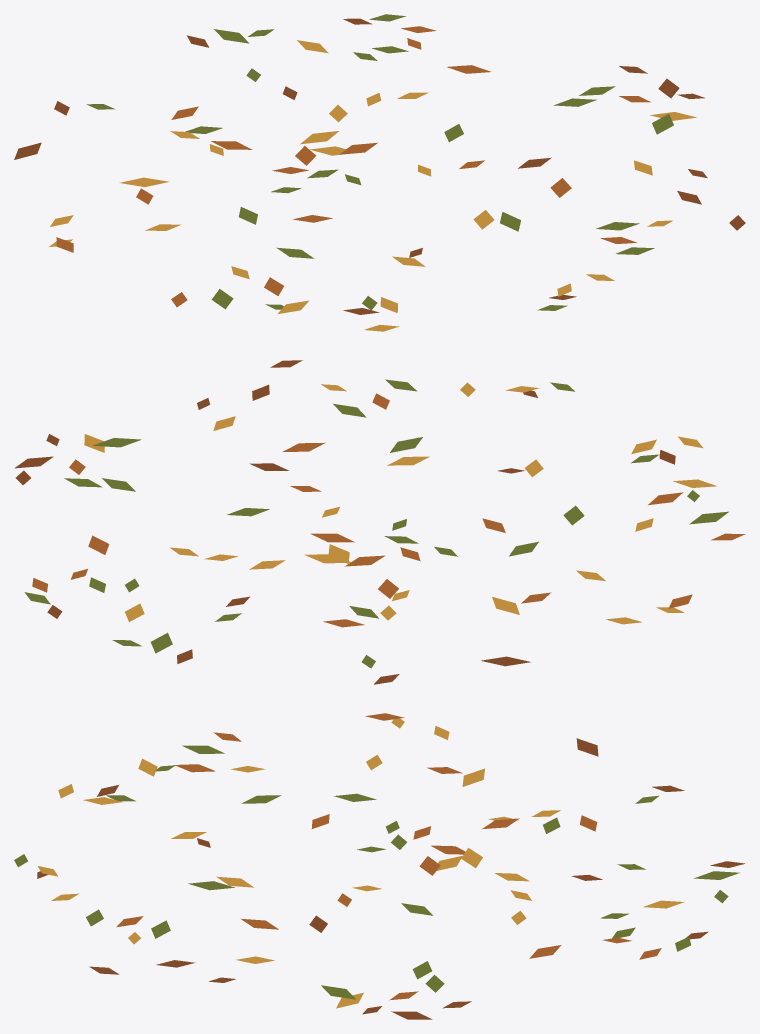
File: Leaf_Litter_B.fbx
The picture shows the model from 3 angles, top to bottom: view 1: azimuth 30°, elevation 25°; view 2: azimuth 150°, elevation 25°; view 3: azimuth 270°, elevation 25°; orthographic projection. The views are drawn at different scales.
Visible parts, largest first — view 1: Leaf_Litter_B.001; view 2: Leaf_Litter_B.001; view 3: Leaf_Litter_B.001.
Boxes of the visible parts, x1=… form: Leaf_Litter_B.001: x1=14, y1=14, x2=745, y2=331; Leaf_Litter_B.001: x1=14, y1=360, x2=745, y2=684; Leaf_Litter_B.001: x1=14, y1=713, x2=744, y2=1019.
Bounding box in the file's own units: 3.17 × 0.0316 × 3.22.
